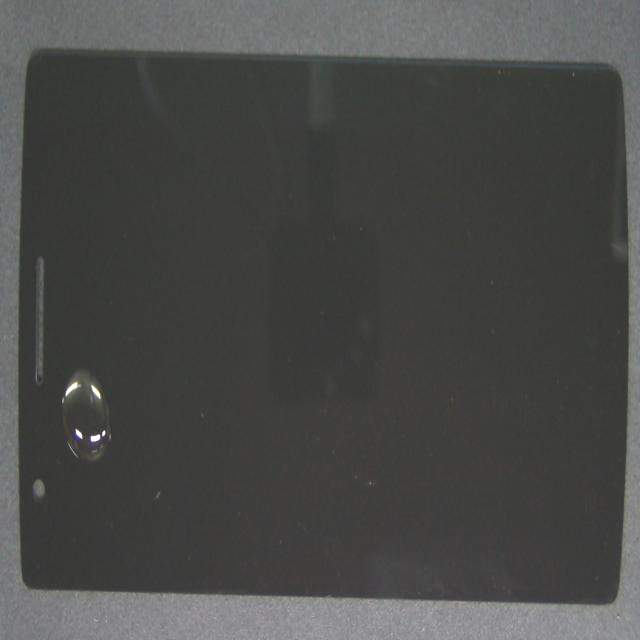oil: (68, 200, 152, 575)
